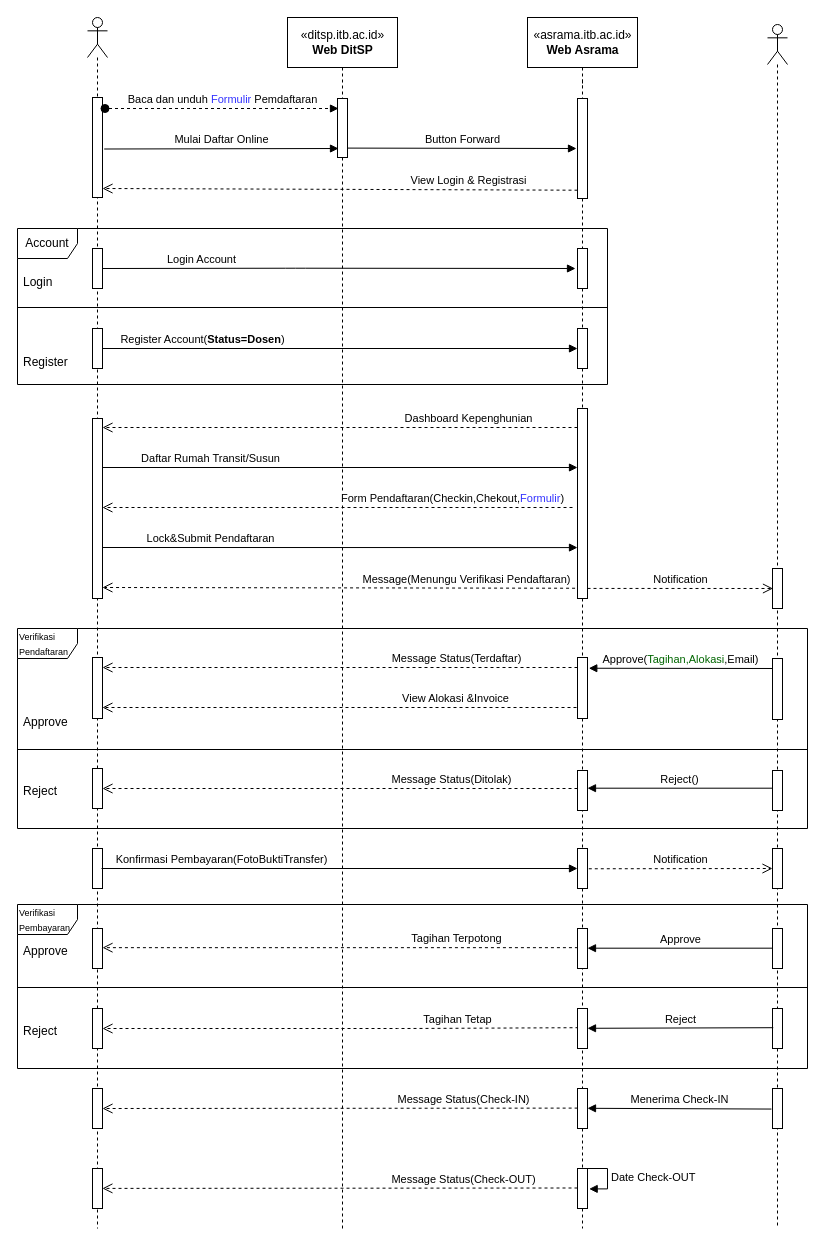
Image size: 825x1247. Some labels were removed from this diagram. Here are the shapes that lost their labels. From the top down, the centre of each, then its label:
At point (97, 622): "User".
At point (777, 626): "Admin".
